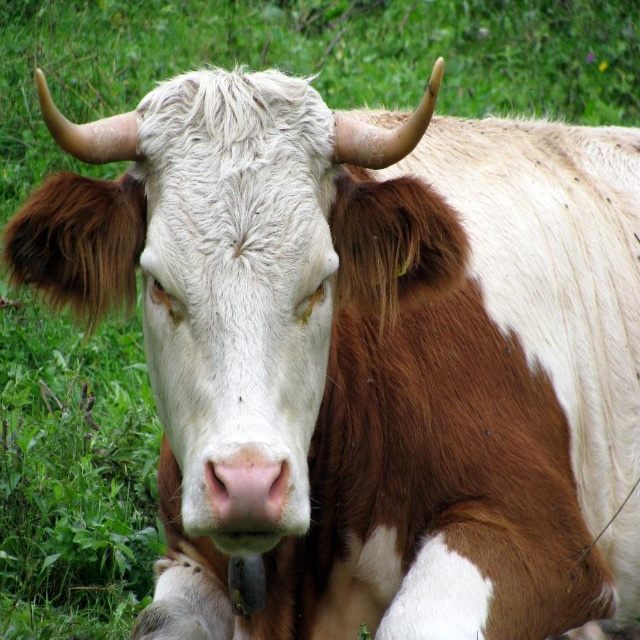Bull: (0, 58, 640, 640)
